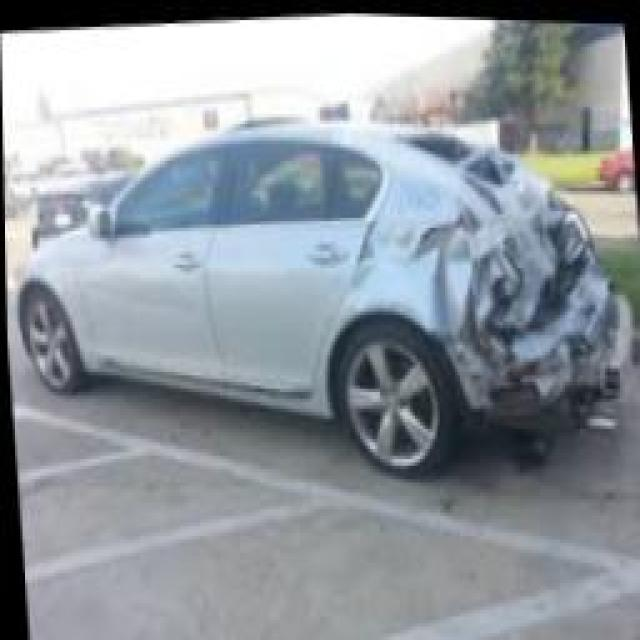Bumper: (475, 269, 637, 447)
Dickey: (387, 118, 614, 333)
Fender: (338, 166, 481, 408)
